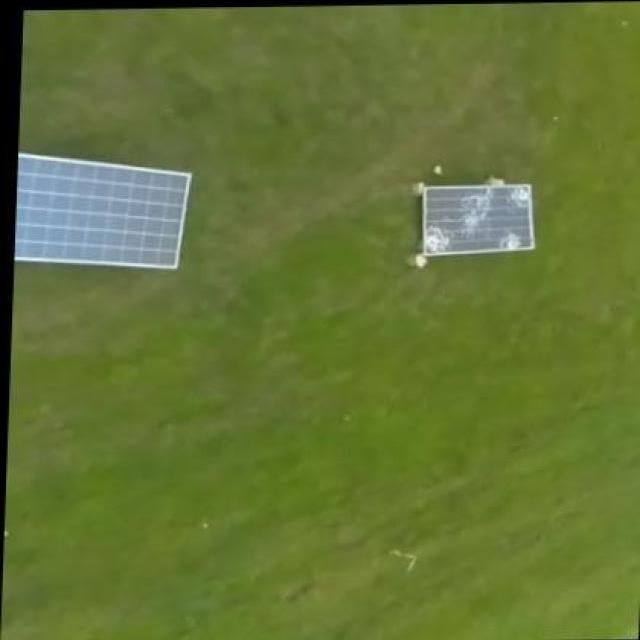cracked: (414, 182, 540, 254)
